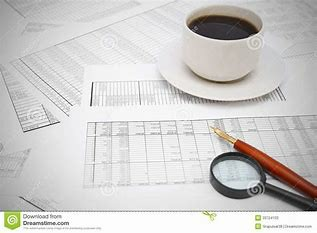pen: (209, 123, 317, 197)
